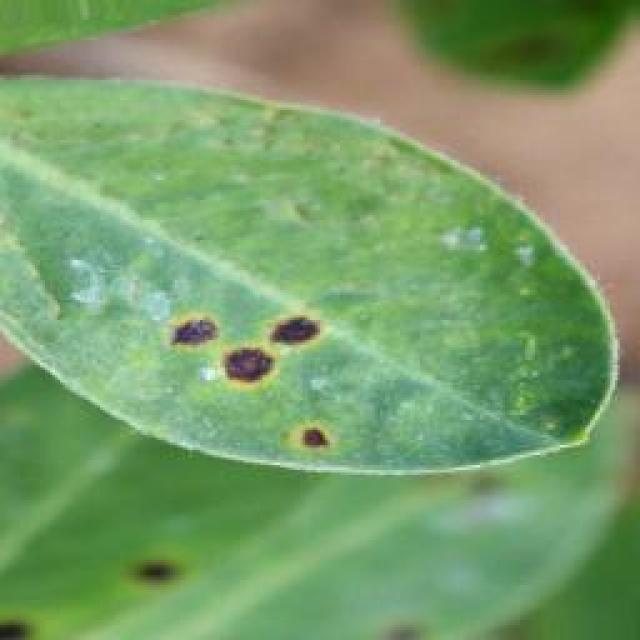Sigatoka: (154, 264, 328, 390), (131, 523, 215, 622), (270, 380, 348, 453), (0, 570, 48, 632), (320, 612, 425, 640)
